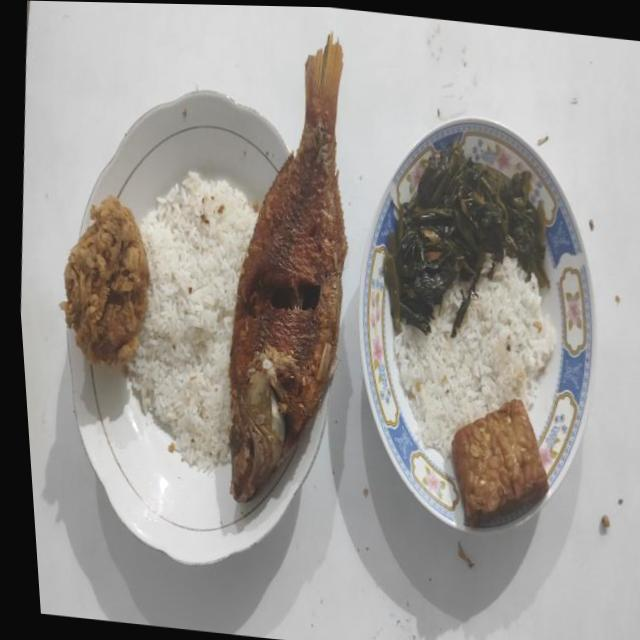ikan_mujair: (228, 36, 348, 500)
nasi_putih: (127, 172, 256, 472), (394, 256, 555, 457)
tempe_goreng: (451, 399, 548, 525)
tumis_kangkung: (383, 138, 549, 336)
